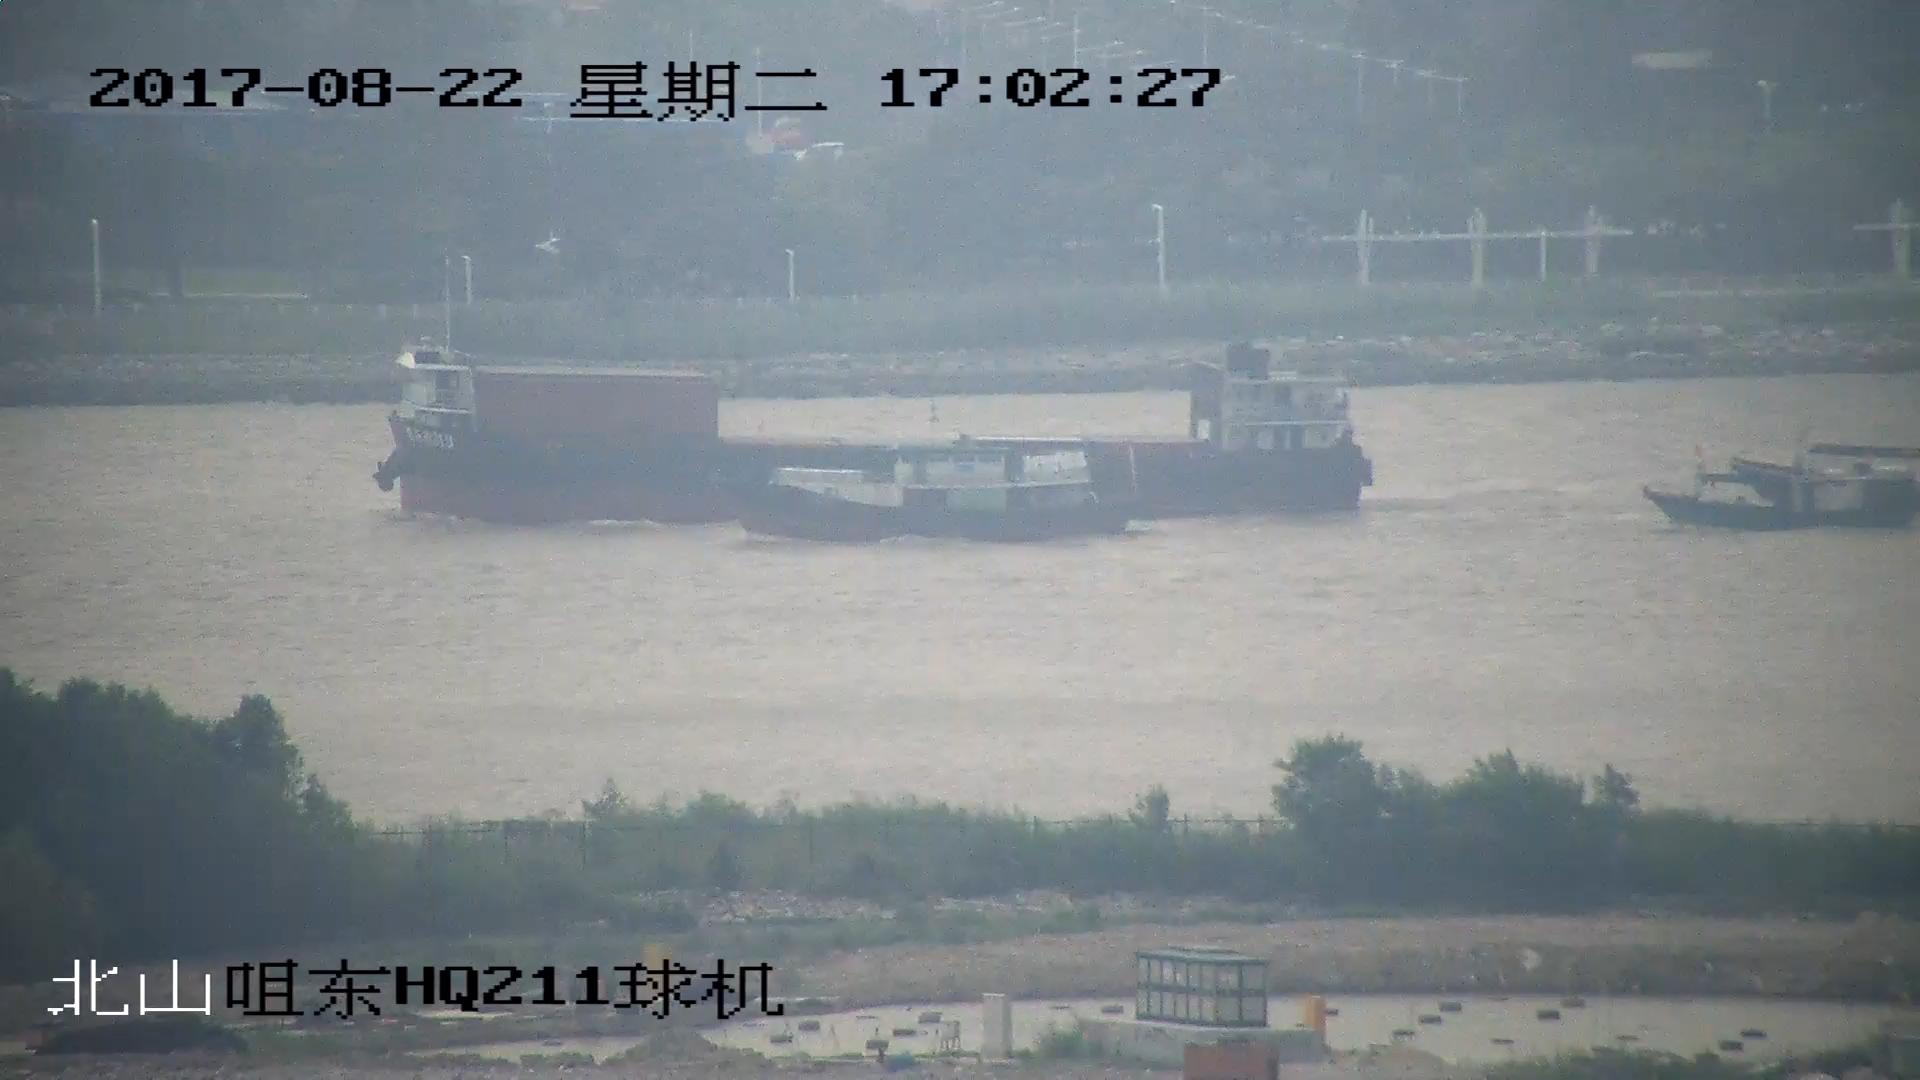fishing boat: (719, 439, 1138, 541), (1646, 461, 1920, 529), (1693, 444, 1920, 503)
general cargo ship: (357, 325, 1372, 527)
